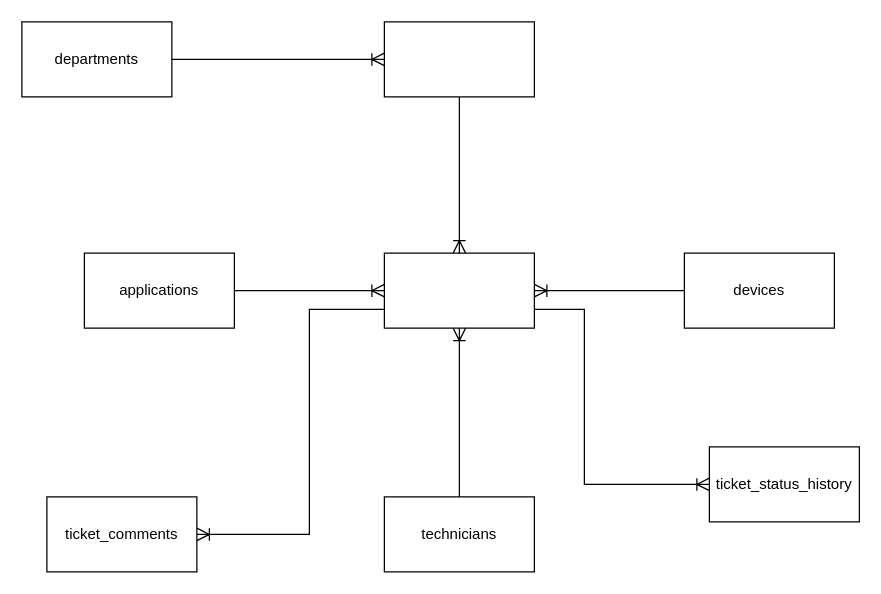
Image size: 881x594. Some labels were removed from this diagram. Here are the shapes that lost their labels. From the top down, the centre of each, then its label:
At point (458, 59): "users".
At point (458, 290): "tickets".
